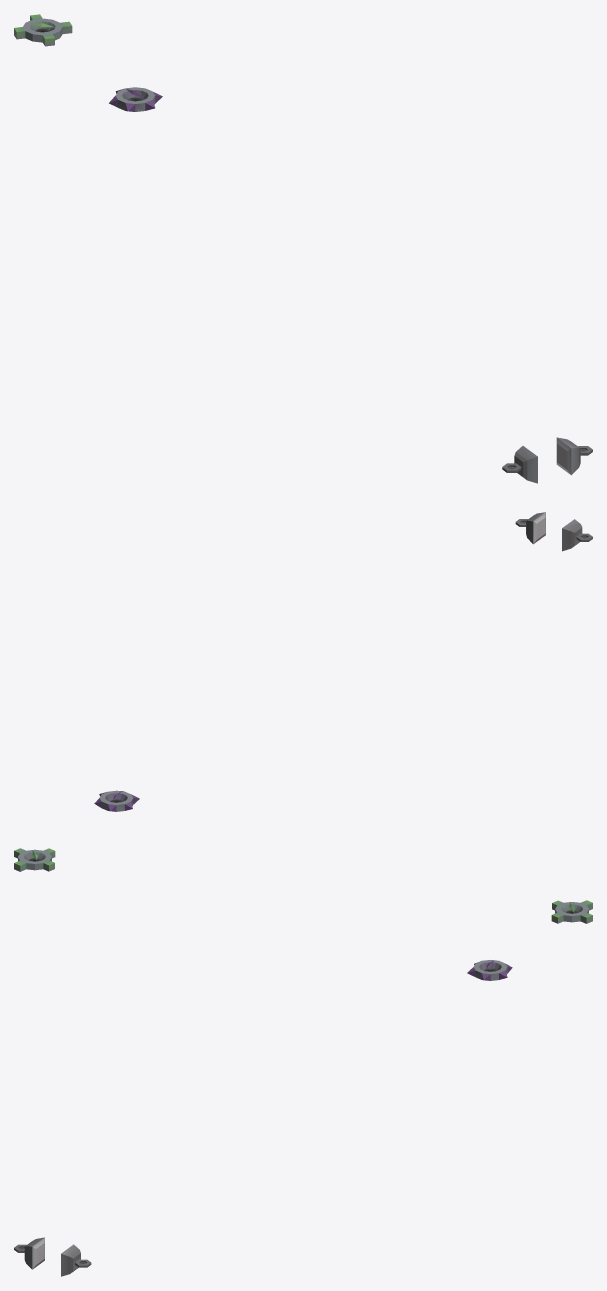
Rendered from PrimeiraFase.fbx.
The picture shows the model from 3 angles, top to bottom: view 1: azimuth 30°, elevation 25°; view 2: azimuth 150°, elevation 25°; view 3: azimuth 330°, elevation 25°; orthographic projection. The views are drawn at different scales.
Visible parts, largest first — view 1: Laser, LaserEye, Spike; view 2: Laser, LaserEye, Spike; view 3: Laser, LaserEye, Spike.
Boxes of the visible parts, x1,y1,x2,y2 form: Laser: [502, 437, 592, 483]; LaserEye: [14, 14, 72, 46]; Spike: [109, 87, 162, 111]; Laser: [515, 512, 592, 551]; LaserEye: [14, 848, 55, 871]; Spike: [94, 790, 139, 811]; Laser: [14, 1237, 91, 1276]; LaserEye: [551, 900, 592, 923]; Spike: [467, 960, 512, 980].
Bounding box in the file's own units: 699 × 179 × 5809.
